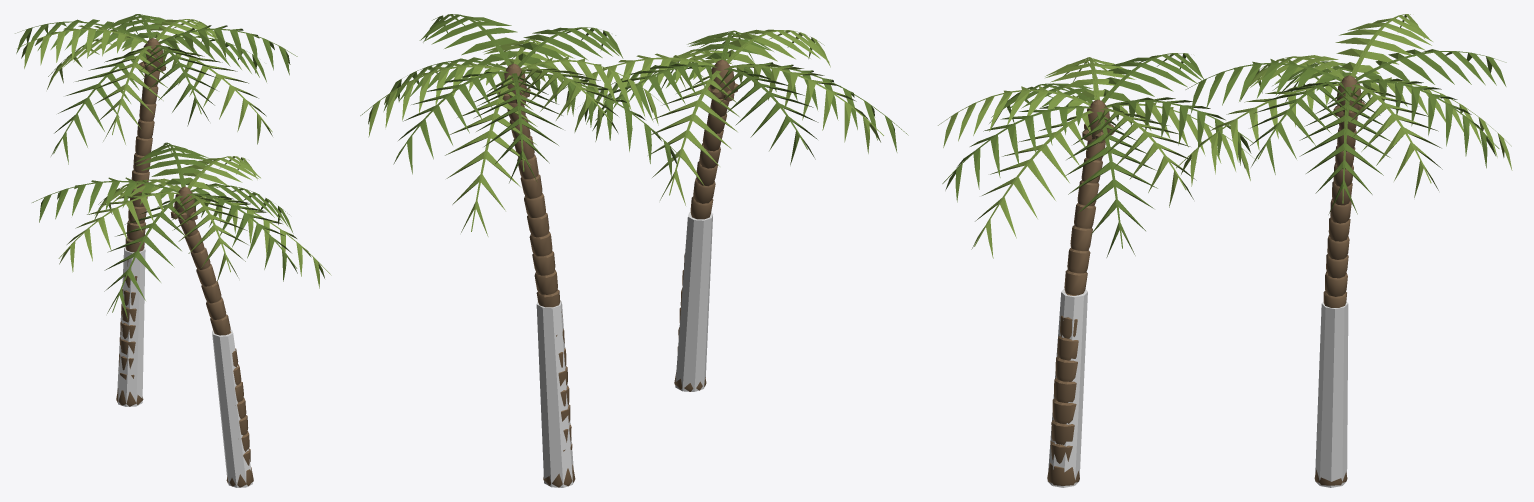
3 renders of one model, left to right at view 1: azimuth 30°, elevation 25°; view 2: azimuth 150°, elevation 25°; view 3: azimuth 270°, elevation 25°, orthographic. The views are drawn at different scales.
Parts seen in each view (by area): view 1: T12_b_leaves, T12_a_leaves, T12_a_trunk, T12_b_trunk, col_b_trunk, col_a_trunk; view 2: T12_a_leaves, T12_b_leaves, T12_a_trunk, col_b_trunk, col_a_trunk, T12_b_trunk; view 3: T12_a_leaves, T12_b_leaves, T12_b_trunk, col_a_trunk, T12_a_trunk, col_b_trunk.
Part boxes in pixels (x1,y1,x2,y2): T12_b_leaves: (32, 142, 331, 319); T12_a_leaves: (15, 14, 297, 164); T12_a_trunk: (116, 38, 165, 406); T12_b_trunk: (170, 186, 253, 487); col_b_trunk: (212, 329, 252, 487); col_a_trunk: (117, 246, 145, 406); T12_a_leaves: (360, 14, 685, 236); T12_b_leaves: (563, 29, 908, 205); T12_a_trunk: (498, 63, 575, 487); col_b_trunk: (675, 212, 712, 391); col_a_trunk: (536, 301, 573, 487); T12_b_trunk: (674, 59, 738, 391); T12_a_leaves: (1176, 14, 1512, 214); T12_b_leaves: (938, 53, 1256, 258); T12_b_trunk: (1047, 99, 1114, 485); col_a_trunk: (1315, 301, 1348, 487); T12_a_trunk: (1314, 75, 1364, 485); col_b_trunk: (1047, 288, 1087, 487).
Bounding box in the file's own units: 6.58 × 7.25 × 8.71.
